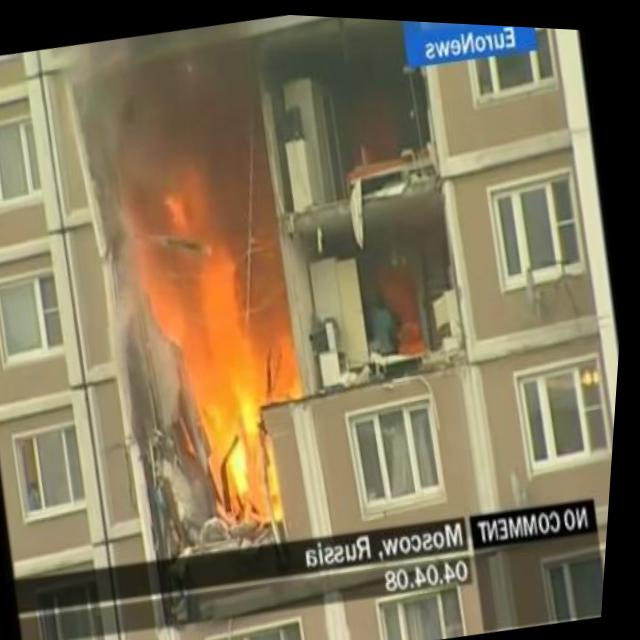fire: (146, 162, 311, 538)
